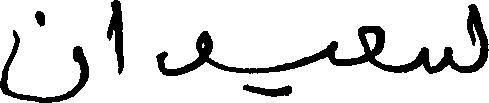X: (0, 6, 88, 102), (422, 0, 488, 78), (158, 26, 212, 80), (358, 21, 382, 74), (112, 0, 124, 79), (326, 36, 338, 70)
